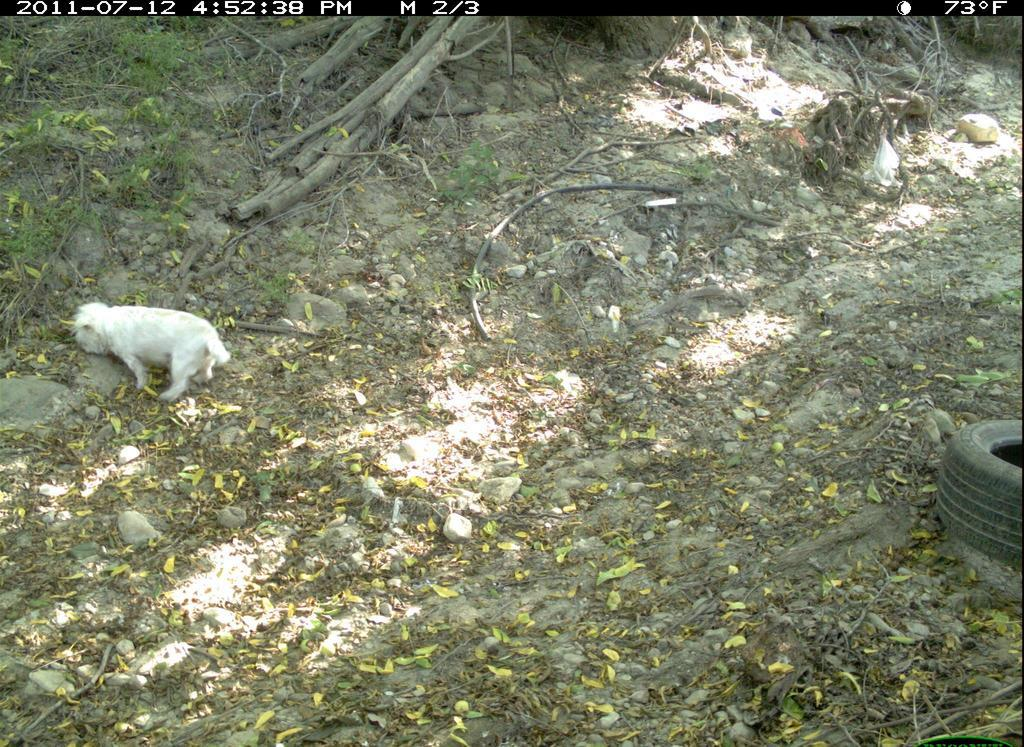dog: (62, 289, 249, 409)
